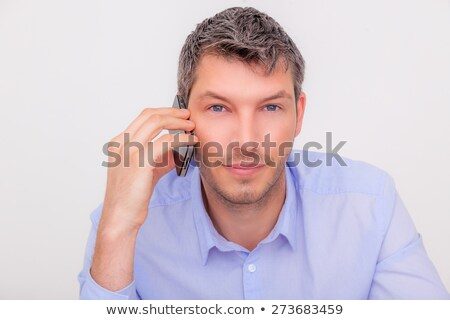phone: (156, 95, 201, 179)
talk: (97, 83, 296, 230)
